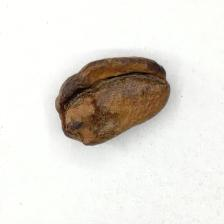NG: (59, 62, 166, 139)
